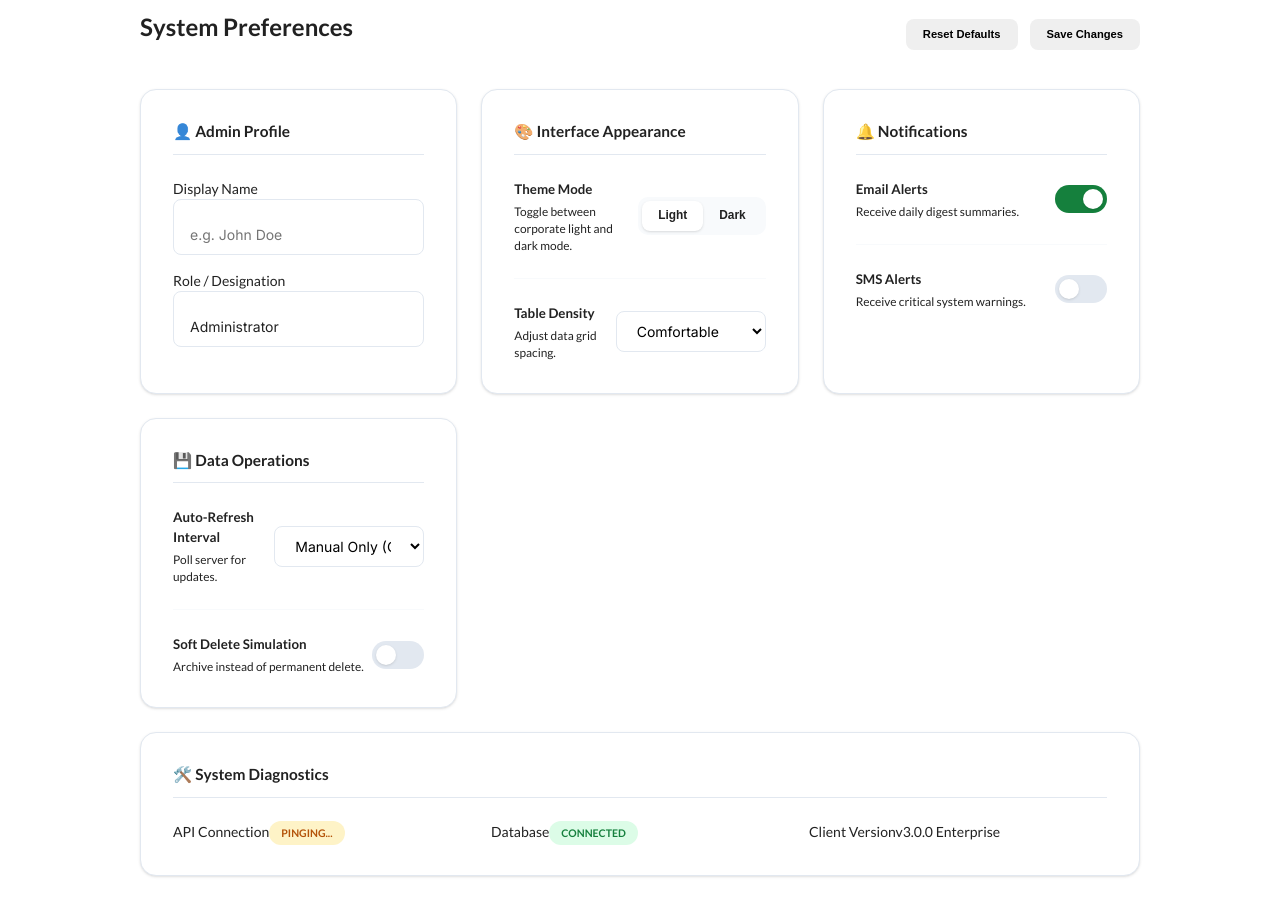
Test: Settings Page Tests › save operation provides feedback
This screenshot has width=1280, height=912.
Click the button "Save Changes". click: [1085, 34]
box: top-left (1030, 19), bottom-right (1140, 50)
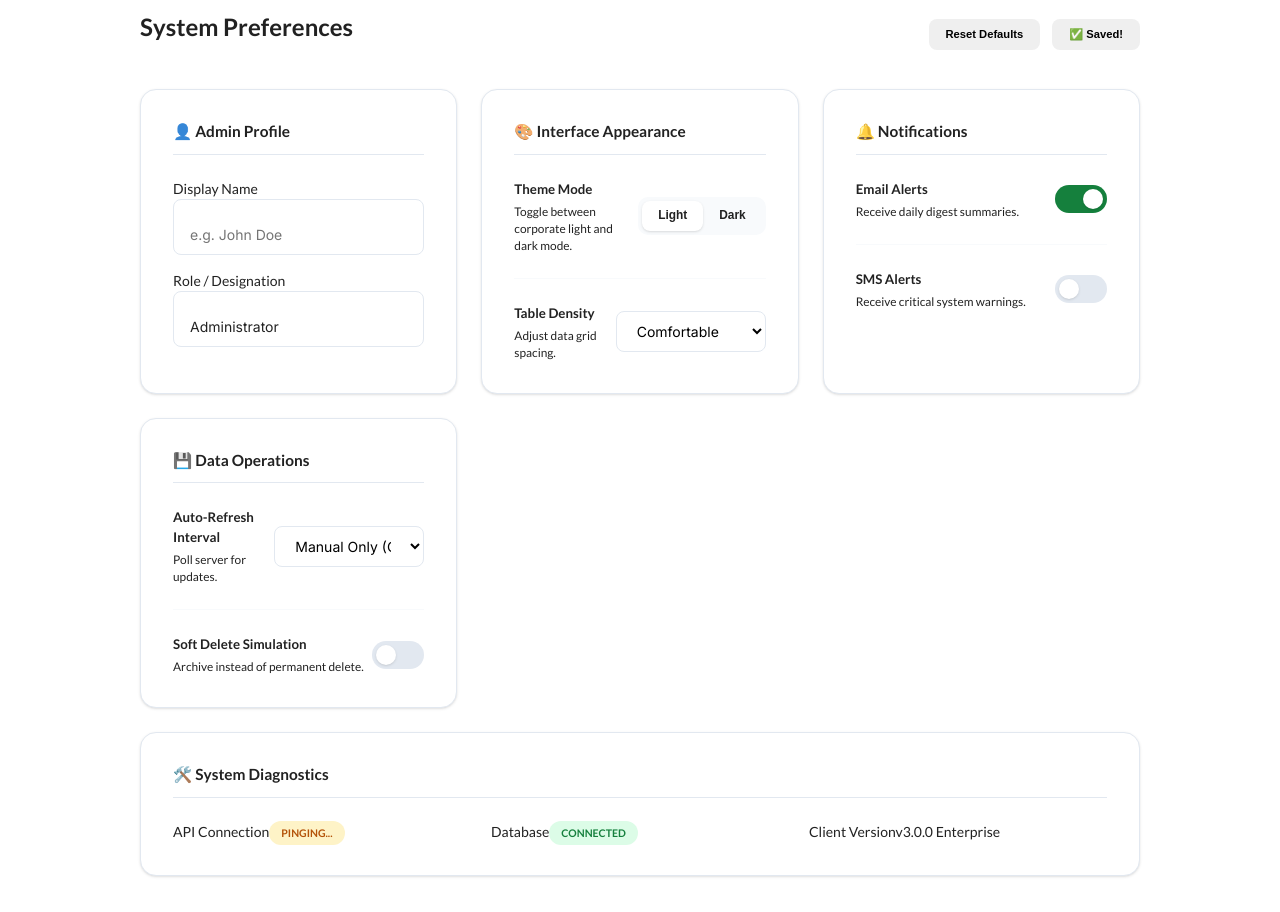
Expected: the button "✅ Saved!" is shown, top-left (1052, 19), bottom-right (1140, 50)
